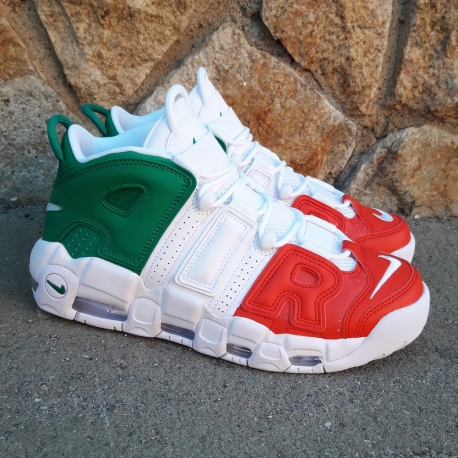Nike Air Uptempo '96 Italy: (20, 81, 435, 384)
